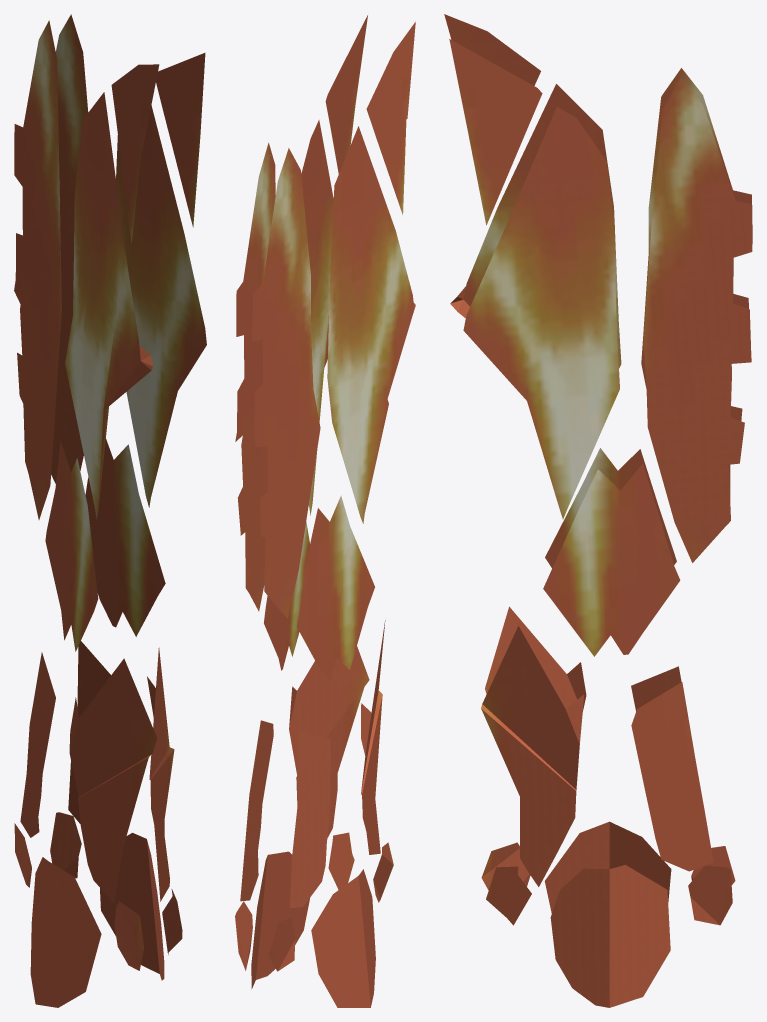
3 views of the same model, side by side, from view 1: azimuth 30°, elevation 25°; view 2: azimuth 150°, elevation 25°; view 3: azimuth 270°, elevation 25° (orthographic). The views are drawn at different scales.
Parts seen in each view (by area): view 1: Object02; view 2: Object02; view 3: Object02.
Boxes of the visible parts, x1,y1,x2,y2 form: Object02: [14, 14, 206, 1007]; Object02: [235, 15, 415, 1007]; Object02: [444, 14, 752, 1007].
Size of the model in its own units: 5.95 by 13.35 by 45.51.
